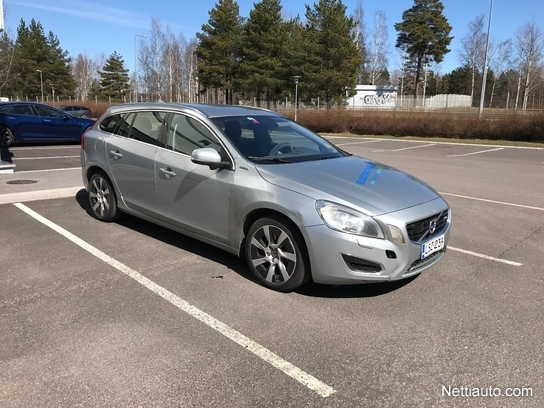car: (79, 99, 453, 292), (1, 102, 90, 144)
